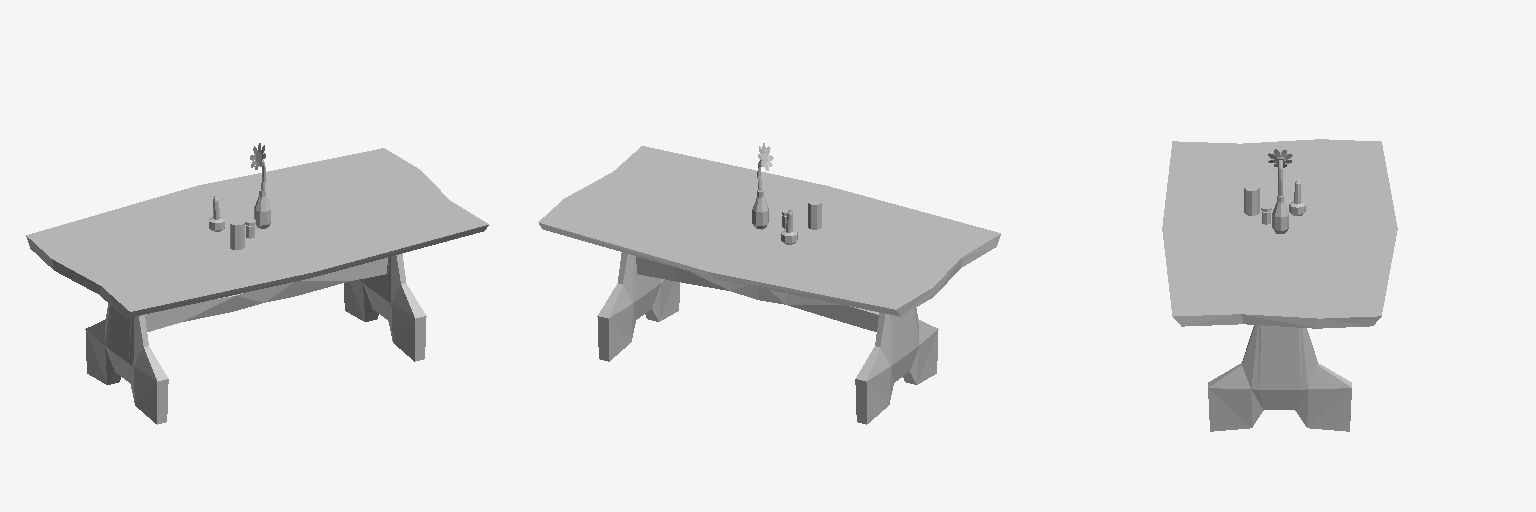
The model's file is Mesa.obj.
The picture shows the model from 3 angles: view 1: azimuth 30°, elevation 25°; view 2: azimuth 150°, elevation 25°; view 3: azimuth 270°, elevation 25°; orthographic projection.
Parts seen in each view (by area): view 1: Mesa_Mesa_Cube; view 2: Mesa_Mesa_Cube; view 3: Mesa_Mesa_Cube.
Part boxes in pixels (x1,y1,x2,y2): Mesa_Mesa_Cube: (26, 143, 488, 424); Mesa_Mesa_Cube: (538, 143, 1000, 424); Mesa_Mesa_Cube: (1162, 139, 1397, 431).
Bounding box in the file's own units: 5.25 × 3.01 × 2.91.